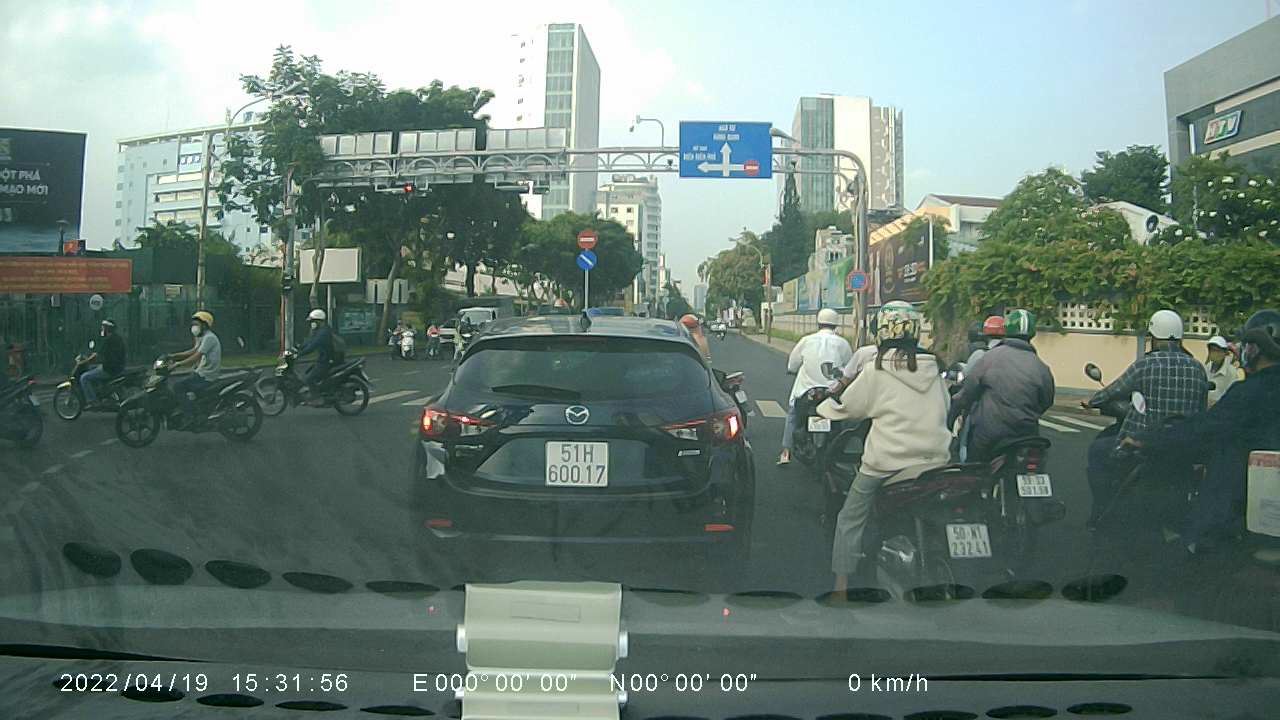Cam di nguoc chieu: (574, 227, 598, 249)
Cam do xe: (846, 267, 870, 294)
Huong di phai re phai: (575, 251, 602, 270)
